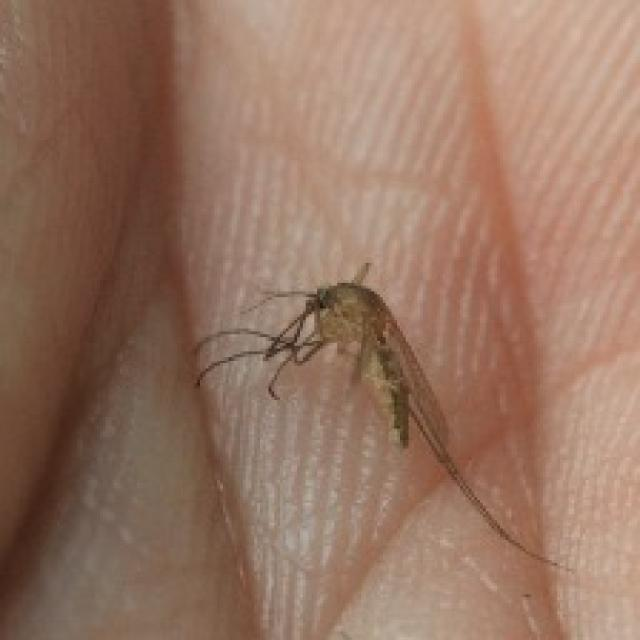culex: (188, 257, 572, 572)
